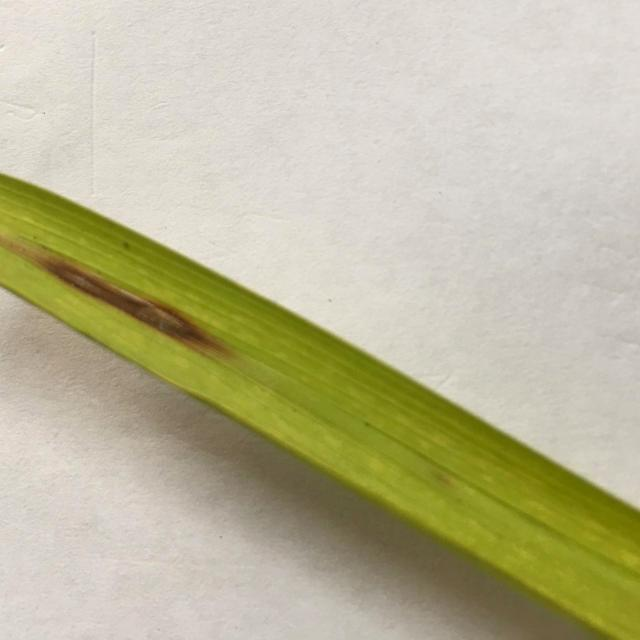Blast: (130, 296, 192, 338), (57, 262, 110, 302)
